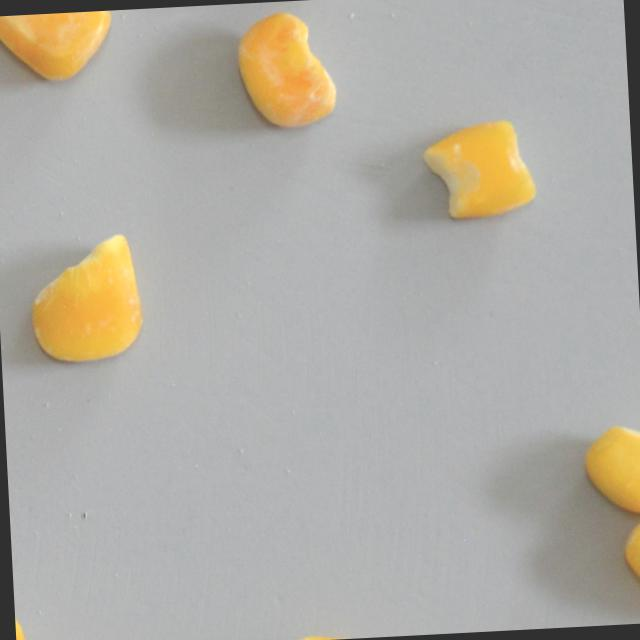estandar: (15, 605, 36, 640)
no_canjicado: (27, 231, 146, 366), (419, 117, 539, 222), (580, 421, 640, 516)
pelicula: (233, 8, 339, 133), (0, 11, 113, 88), (618, 492, 640, 623)
